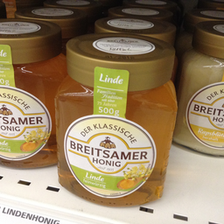honey: (51, 33, 178, 212)
